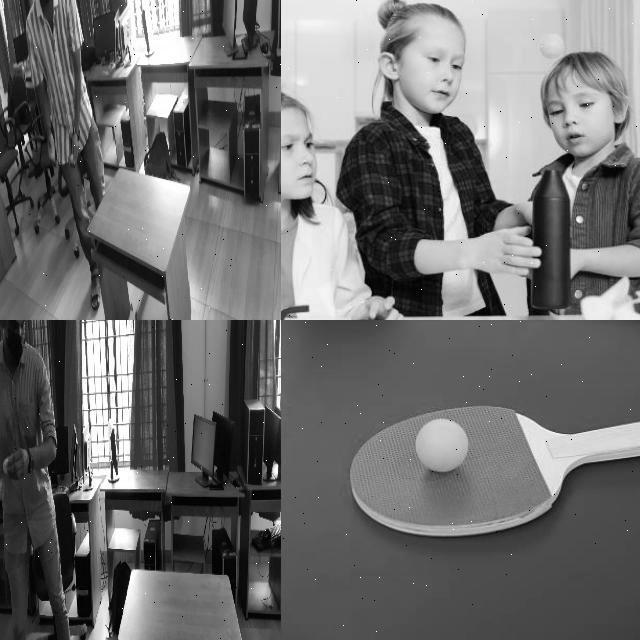ping-pong-ball: (416, 420, 468, 472), (540, 34, 564, 58), (3, 456, 8, 474), (70, 153, 73, 166)
